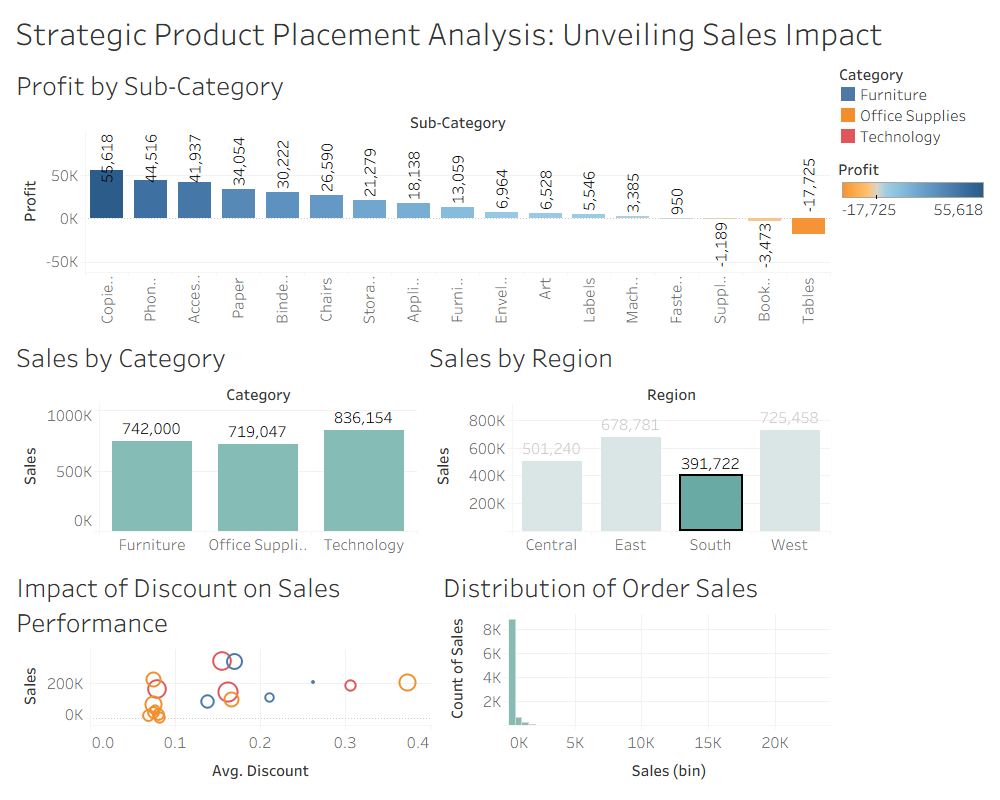

The page's visual inventory and layout, read from the dashboard file:
{"tool":"tableau","page":{"name":"Strategic Product Placement Analysis: Unveiling Sales Impact","canvas":[1000,800],"ordinal":0},"visuals":[{"type":"title","box":[8,8,984,50]},{"type":"worksheet","title":"Profit by Sub-Category","mark":"Automatic","rows":["Profit"],"cols":["Sub-Category"],"box":[8,58,826,272]},{"type":"legend","title":"Impact of Discount on Sales Performance","param":"[federated.1hdbs2q17rxczt1cdw05q0h0l4gv].[none:Category:nk]","box":[834,58,158,93]},{"type":"legend","title":"Profit by Sub-Category","param":"[federated.1hdbs2q17rxczt1cdw05q0h0l4gv].[sum:Profit:qk]","box":[834,151,158,73]},{"type":"worksheet","title":"Sales by Category","mark":"Automatic","rows":["Sales"],"cols":["Category"],"box":[8,330,413,230]},{"type":"worksheet","title":"Sales by Region","mark":"Automatic","rows":["Sales"],"cols":["Region"],"box":[421,330,413,230]},{"type":"worksheet","title":"Impact of Discount on Sales Performance","mark":"Automatic","rows":["Sales"],"cols":["Discount"],"box":[8,560,427,232]},{"type":"worksheet","title":"Distribution of Order Sales","mark":"Automatic","rows":["Sales"],"cols":["Sales (bin)"],"box":[435,560,399,232]}]}

Visuals, with their boxes in screenshot pixels (x1, y1, x2, y2), scaled from the page's 1000x800 canvas onto the 1000x800 screenshot:
title: <region>8, 8, 992, 58</region>
"Profit by Sub-Category" worksheet: <region>8, 58, 834, 330</region>
"Impact of Discount on Sales Performance" legend: <region>834, 58, 992, 151</region>
"Profit by Sub-Category" legend: <region>834, 151, 992, 224</region>
"Sales by Category" worksheet: <region>8, 330, 421, 560</region>
"Sales by Region" worksheet: <region>421, 330, 834, 560</region>
"Impact of Discount on Sales Performance" worksheet: <region>8, 560, 435, 792</region>
"Distribution of Order Sales" worksheet: <region>435, 560, 834, 792</region>
